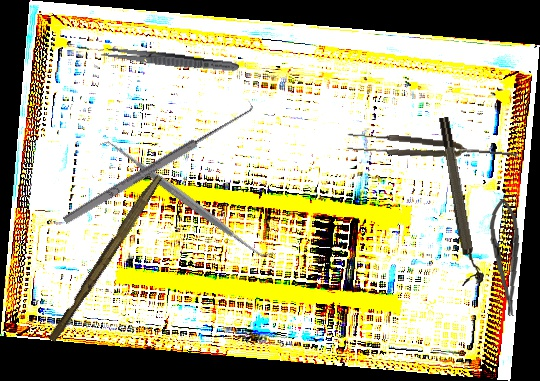Dressing Forceps: (100, 45, 240, 75)
Fixation Ring: (435, 115, 486, 286)
Hook Surgical: (57, 94, 257, 228)
Needle Holder: (487, 197, 525, 318)
Scalpel Handle: (47, 171, 163, 345)
Spatula Surgical: (97, 128, 276, 271)
Tissue Forceps: (345, 130, 521, 167)
